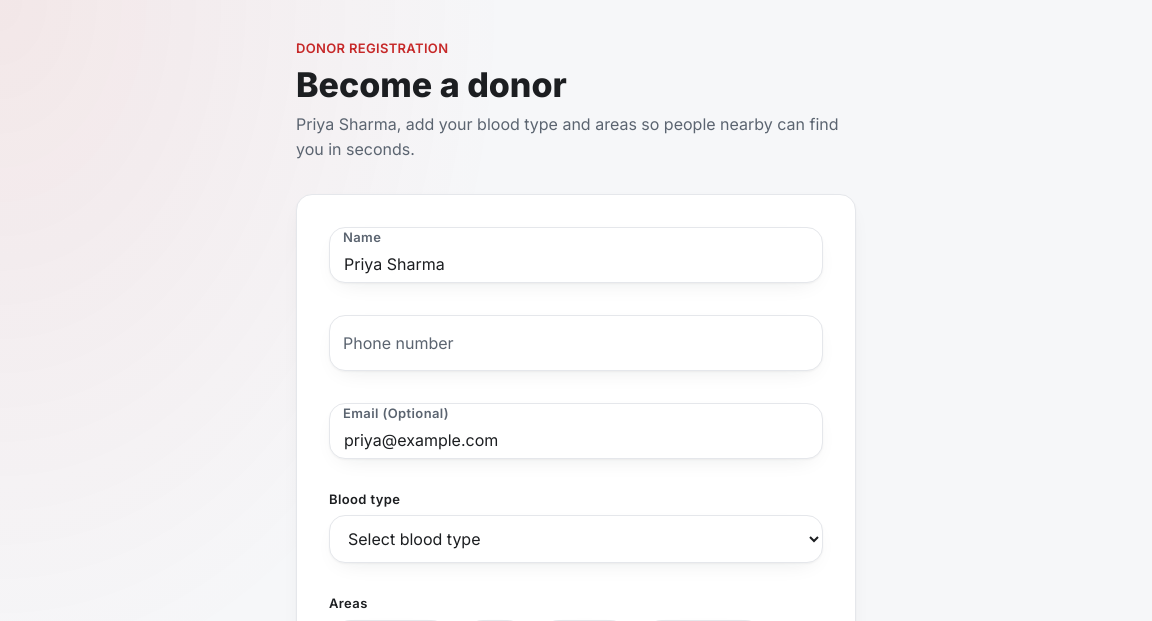
Scenario: Donor Registration screen › clears a stale inline error once the field becomes valid, even without a further blur
Type "123" into the field labelled "Phone number" at [576, 343], box left=329, top=315, right=823, bottom=371
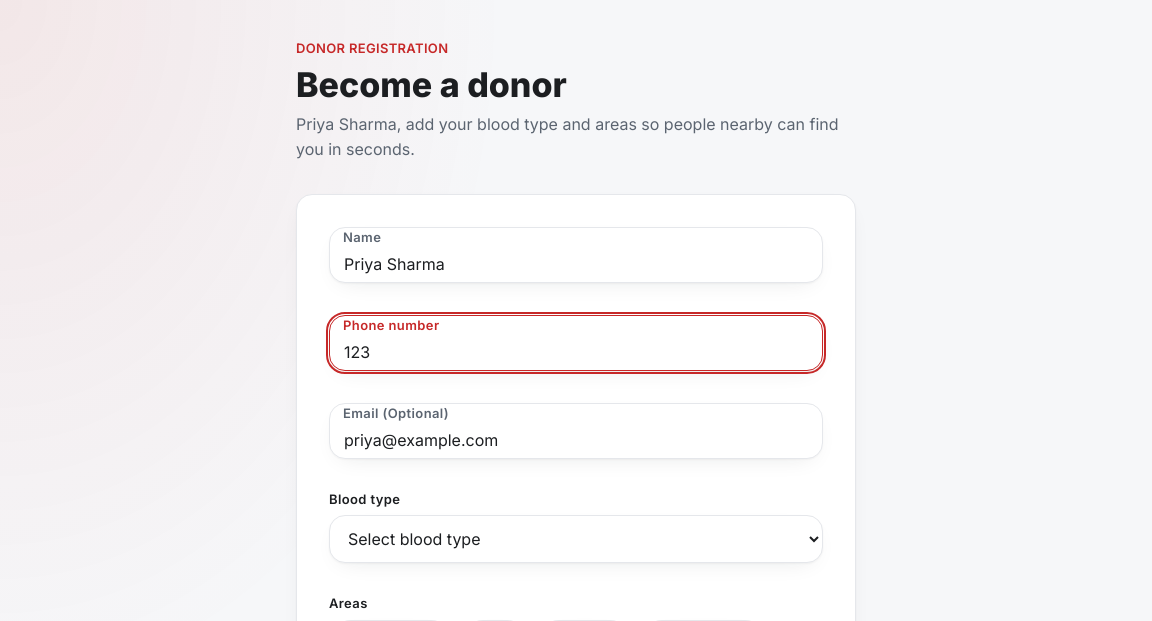
Press Tab
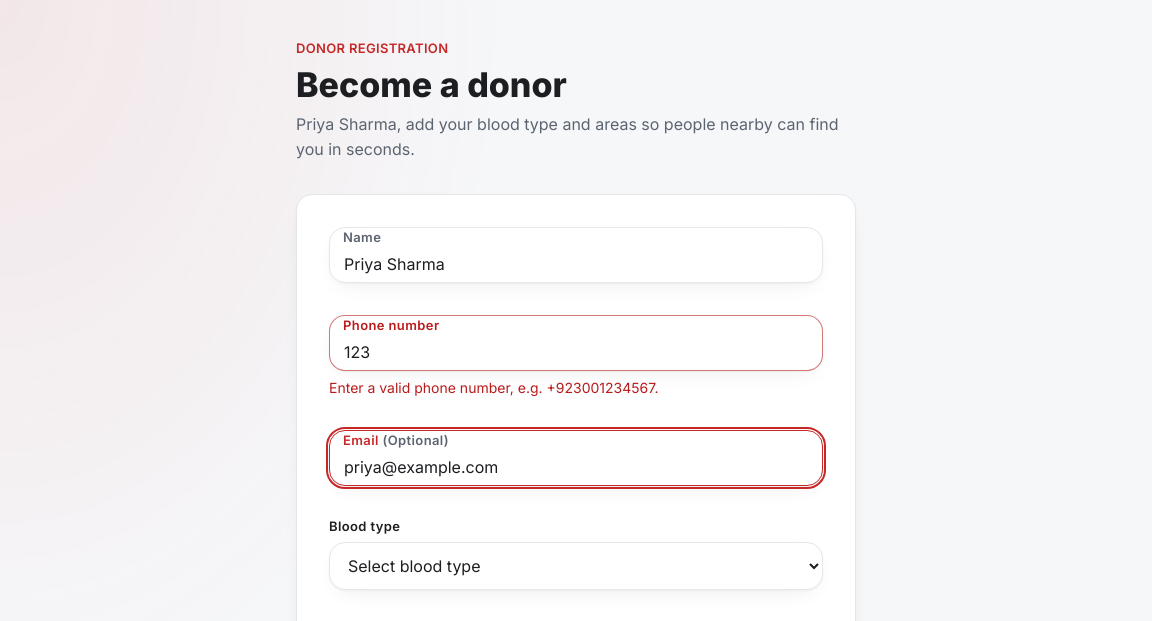
Expected: the message shows "valid phone number", left=329, top=379, right=658, bottom=396
Replace the text in the field labelled "Phone number" with "+923001234567" at [576, 343], box left=329, top=315, right=823, bottom=371
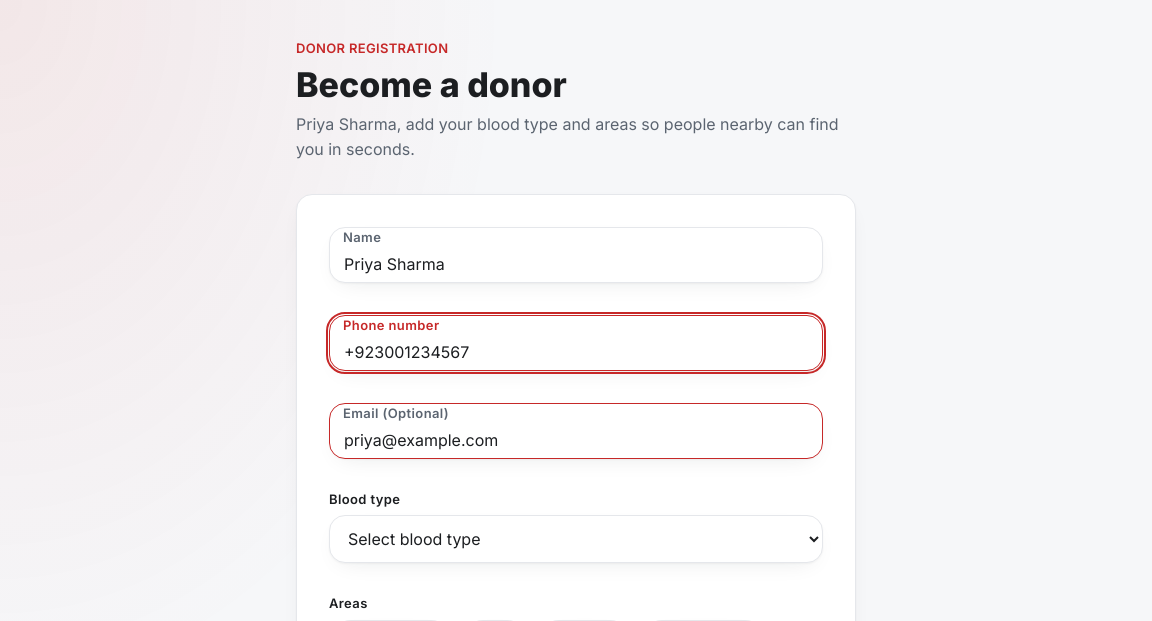
Expected: the text "valid phone number" is gone
